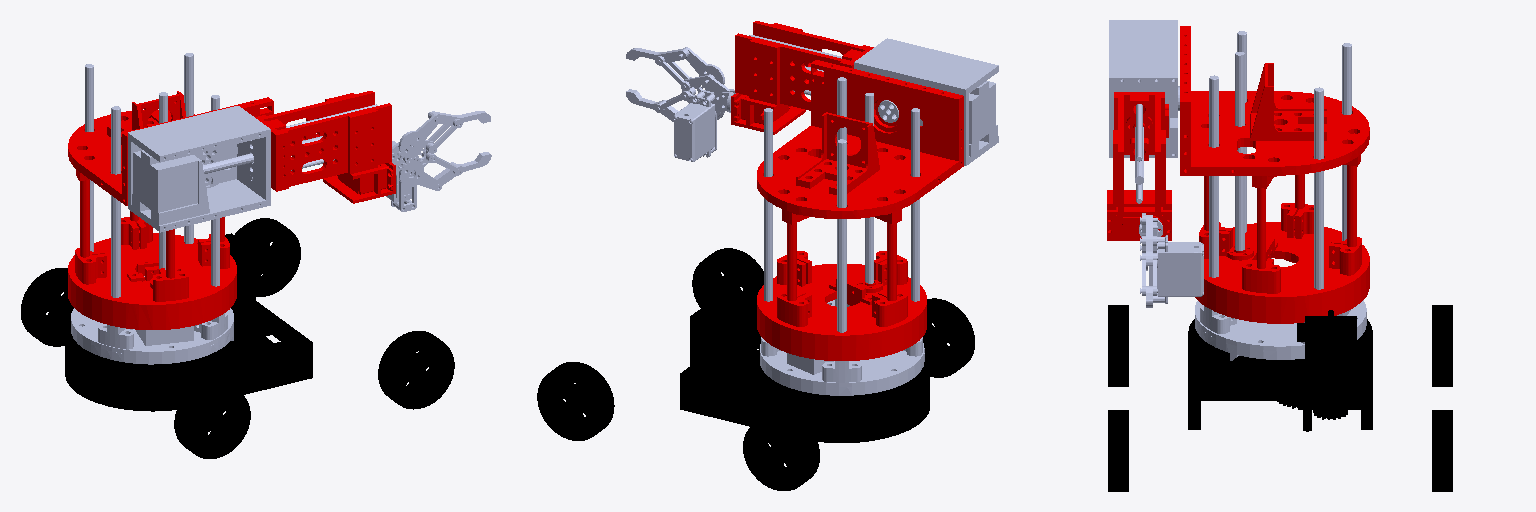
URDF robot description (asabe_robot_description):
<?xml version="1.0" encoding="utf-8"?>
<robot
  name="asabe_robot_description">
  <link
    name="base_link">
    <visual>
      <origin
        xyz="0 0 0"
        rpy="0 0 0" />
      <geometry>
        <mesh
          filename="package://asabe_robot_description/meshes/base_link.STL" />
      </geometry>
      <material
        name="">
        <color
          rgba="0.79216 0.81961 0.93333 1" />
      </material>
    </visual>
  </link>

  <!-- Robot Footprint -->
  <!-- <link name="base_footprint"/>

  <joint name="base_joint" type="fixed">
    <parent link="base_link"/>
    <child link="base_footprint"/>
    <origin xyz="0.0 0.0 -0.01875" rpy="0 0 0"/>
  </joint> -->


  <link
    name="base">
    <inertial>
      <origin
        xyz="0.01912 0.0011886 0.0092468"
        rpy="0 0 0" />
      <mass
        value="0.78986" />
      <inertia
        ixx="0.0020986"
        ixy="-1.3798E-07"
        ixz="-2.0391E-05"
        iyy="0.0033408"
        iyz="4.2971E-07"
        izz="0.0053539" />
    </inertial>
    <visual>
      <origin
        xyz="0 0 0"
        rpy="0 0 0" />
      <geometry>
        <mesh
          filename="package://asabe_robot_description/meshes/base_link.STL" />
      </geometry>
      <material
        name="">
        <color
          rgba="0.79216 0.81961 0.93333 1" />
      </material>
    </visual>
    <collision>
      <origin
        xyz="0 0 0"
        rpy="0 0 0" />
      <geometry>
        <mesh
          filename="package://asabe_robot_description/meshes/base_link.STL" />
      </geometry>
    </collision>
  </link>

   <joint
    name="Joint_base"
    type="fixed">
    <origin
      xyz="0 0 0"
      rpy="0 0 0" />
    <parent
      link="base_link" />
    <child
      link="base" />
    <axis
      xyz="0 0 0" />
  </joint>


  <link
    name="Link_wheel1"> <!--dynamixel id:2-->
    <inertial>
      <origin
        xyz="4.1633E-17 -4.1633E-17 -0.0074545"
        rpy="0 0 0" />
      <mass
        value="0.03913" />
      <inertia
        ixx="1.4554E-05"
        ixy="-1.1471E-22"
        ixz="-4.1333E-21"
        iyy="1.4554E-05"
        iyz="8.1676E-21"
        izz="2.7117E-05" />
    </inertial>
    <visual>
      <origin
        xyz="0 0 0"
        rpy="0 0 0" />
      <geometry>
        <mesh
          filename="package://asabe_robot_description/meshes/Link_wheel1.STL" />
      </geometry>
      <material
        name="">
        <color
          rgba="0 0 0 1" />
      </material>
    </visual>
    <collision>
      <origin
        xyz="0 0 0"
        rpy="0 0 0" />
      <geometry>
        <mesh
          filename="package://asabe_robot_description/meshes/Link_wheel1.STL" />
      </geometry>
    </collision>
  </link>

  <joint
    name="Joint_wheel1"
    type="continuous"> <!--dynamixel id:2-->
    <origin
      xyz="0.10075 -0.123 0.01425"
      rpy="-1.5708 0 0" />
    <parent
      link="base_link" />
    <child
      link="Link_wheel1" />
    <axis
      xyz="0 0 1" />
  </joint>


  <link
    name="Link_wheel2"> <!--dynamixel id:3-->
    <inertial>
      <origin
        xyz="1.3878E-17 4.8572E-17 -0.0074545"
        rpy="0 0 0" />
      <mass
        value="0.03913" />
      <inertia
        ixx="1.4554E-05"
        ixy="3.9294E-22"
        ixz="-5.24E-22"
        iyy="1.4554E-05"
        iyz="-9.2404E-21"
        izz="2.7117E-05" />
    </inertial>
    <visual>
      <origin
        xyz="0 0 0"
        rpy="0 0 0" />
      <geometry>
        <mesh
          filename="package://asabe_robot_description/meshes/Link_wheel2.STL" />
      </geometry>
      <material
        name="">
        <color
          rgba="0 0 0 1" />
      </material>
    </visual>
    <collision>
      <origin
        xyz="0 0 0"
        rpy="0 0 0" />
      <geometry>
        <mesh
          filename="package://asabe_robot_description/meshes/Link_wheel2.STL" />
      </geometry>
    </collision>
  </link>

  <joint
    name="Joint_wheel2"
    type="continuous"> <!--dynamixel id:3-->
    <origin
      xyz="0.10075 0.123 0.01425"
      rpy="1.5708 0 0" />
    <parent
      link="base_link" />
    <child
      link="Link_wheel2" />
    <axis
      xyz="0 0 -1" />
  </joint>


  <link
    name="Link_wheel3"> <!--dynamixel id:4-->
    <inertial>
      <origin
        xyz="-1.3878E-17 5.2042E-17 -0.0074545"
        rpy="0 0 0" />
      <mass
        value="0.03913" />
      <inertia
        ixx="1.4554E-05"
        ixy="-1.7229E-25"
        ixz="2.4714E-22"
        iyy="1.4554E-05"
        iyz="-9.2065E-21"
        izz="2.7117E-05" />
    </inertial>
    <visual>
      <origin
        xyz="0 0 0"
        rpy="0 0 0" />
      <geometry>
        <mesh
          filename="package://asabe_robot_description/meshes/Link_wheel3.STL" />
      </geometry>
      <material
        name="">
        <color
          rgba="0 0 0 1" />
      </material>
    </visual>
    <collision>
      <origin
        xyz="0 0 0"
        rpy="0 0 0" />
      <geometry>
        <mesh
          filename="package://asabe_robot_description/meshes/Link_wheel3.STL" />
      </geometry>
    </collision>
  </link>

  <joint
    name="Joint_wheel3"
    type="continuous"> <!--dynamixel id:4-->
    <origin
      xyz="-0.10075 0.123 0.01425"
      rpy="1.5708 0 0" />
    <parent
      link="base_link" />
    <child
      link="Link_wheel3" />
    <axis
      xyz="0 0 -1" />
  </joint>


  <link
    name="Link_wheel4"> <!--dynamixel id:1-->
    <inertial>
      <origin
        xyz="0 -5.2042E-17 -0.0074545"
        rpy="0 0 0" />
      <mass
        value="0.03913" />
      <inertia
        ixx="1.4554E-05"
        ixy="1.024E-23"
        ixz="-2.8314E-21"
        iyy="1.4554E-05"
        iyz="9.2044E-21"
        izz="2.7117E-05" />
    </inertial>
    <visual>
      <origin
        xyz="0 0 0"
        rpy="0 0 0" />
      <geometry>
        <mesh
          filename="package://asabe_robot_description/meshes/Link_wheel4.STL" />
      </geometry>
      <material
        name="">
        <color
          rgba="0 0 0 1" />
      </material>
    </visual>
    <collision>
      <origin
        xyz="0 0 0"
        rpy="0 0 0" />
      <geometry>
        <mesh
          filename="package://asabe_robot_description/meshes/Link_wheel4.STL" />
      </geometry>
    </collision>
  </link>
  
  <joint
    name="Joint_wheel4"
    type="continuous"> <!--dynamixel id:1-->
    <origin
      xyz="-0.10075 -0.123 0.01425"
      rpy="-1.5708 0 0" />
    <parent
      link="base_link" />
    <child
      link="Link_wheel4" />
    <axis
      xyz="0 0 1" />
  </joint>


  <link
    name="Link_lidar">
  </link>
  
  <joint
    name="Joint_lidar"
    type="fixed">
    <origin
      xyz="0.109 0 0.0436"
      rpy="0 0 3.1416" />
    <parent
      link="base_link" />
    <child
      link="Link_lidar" />
    <axis
      xyz="0 0 0" />
  </joint>


  <ros2_control name="base_control" type="system">
    <hardware>
      <plugin>dynamixel_hardware/DynamixelHardware</plugin>
      <param name="usb_port">/dev/ttyAMA2</param>
      <param name="baud_rate">57600</param>
    </hardware>

    <joint name="Joint_wheel1">
      <param name="id">2</param>
      <param name="transmission">-1</param>
      <!-- <command_interface name="position"/> -->
      <command_interface name="velocity"/>
      <!-- <state_interface name="position"/> -->
      <state_interface name="velocity"/>
      <!-- <state_interface name="effort"/> -->
    </joint>

    <joint name="Joint_wheel2">
      <param name="id">3</param>
      <param name="transmission">1</param>
      <!-- <command_interface name="position"/> -->
      <command_interface name="velocity"/>
      <!-- <state_interface name="position"/> -->
      <state_interface name="velocity"/>
      <!-- <state_interface name="effort"/> -->
    </joint>

    <joint name="Joint_wheel3">
      <param name="id">4</param>
      <param name="transmission">1</param>
      <!-- <command_interface name="position"/> -->
      <command_interface name="velocity"/>
      <!-- <state_interface name="position"/> -->
      <state_interface name="velocity"/>
      <!-- <state_interface name="effort"/> -->
    </joint>

    <joint name="Joint_wheel4">
      <param name="id">1</param>
      <param name="transmission">-1</param>
      <!-- <command_interface name="position"/> -->
      <command_interface name="velocity"/>
      <!-- <state_interface name="position"/> -->
      <state_interface name="velocity"/>
      <!-- <state_interface name="effort"/> -->
    </joint>

  </ros2_control>

  <link
    name="Link_arm1">
    <inertial>
      <origin
        xyz="0.033146 0.009228 0.027122"
        rpy="0 0 0" />
      <mass
        value="0.52977" />
      <inertia
        ixx="0.00086749"
        ixy="-2.5625E-05"
        ixz="-1.7029E-05"
        iyy="0.0010469"
        iyz="3.1451E-06"
        izz="0.0018174" />
    </inertial>
    <visual>
      <origin
        xyz="0 0 0"
        rpy="0 0 0" />
      <geometry>
        <mesh
          filename="package://asabe_robot_description/meshes/Link_arm1.STL" />
      </geometry>
      <material
        name="">
        <color
          rgba="0 0 0 1" />
      </material>
    </visual>
    <collision>
      <origin
        xyz="0 0 0"
        rpy="0 0 0" />
      <geometry>
        <mesh
          filename="package://asabe_robot_description/meshes/Link_arm1.STL" />
      </geometry>
    </collision>
  </link>

  <joint
    name="Joint_arm1"
    type="fixed">
    <origin
      xyz="-0.084 0 0"
      rpy="0 0 0" />
    <parent
      link="base" />
    <child
      link="Link_arm1" />
    <axis
      xyz="0 0 0" />
  </joint>


  <link
    name="Link_arm2">
    <inertial>
      <origin
        xyz="-0.0012502 -0.0044304 0.035885"
        rpy="0 0 0" />
      <mass
        value="0.38055" />
      <inertia
        ixx="0.00059052"
        ixy="3.1075E-06"
        ixz="4.3079E-07"
        iyy="0.00059801"
        iyz="5.6852E-07"
        izz="0.00046663" />
    </inertial>
    <visual>
      <origin
        xyz="0 0 0"
        rpy="0 0 0" />
      <geometry>
        <mesh
          filename="package://asabe_robot_description/meshes/Link_arm2.STL" />
      </geometry>
      <material
        name="">
        <color
          rgba="0.79216 0.81961 0.93333 1" />
      </material>
    </visual>
    <collision>
      <origin
        xyz="0 0 0"
        rpy="0 0 0" />
      <geometry>
        <mesh
          filename="package://asabe_robot_description/meshes/Link_arm2.STL" />
      </geometry>
    </collision>
  </link>

  <joint
    name="Joint_arm2"
    type="revolute">
    <origin
      xyz="0 0 0.035"
      rpy="0 0 0" />
    <parent
      link="Link_arm1" />
    <child
      link="Link_arm2" />
    <axis
      xyz="0 0 -1" />
    <limit
      lower="0"
      upper="5.0"
      velocity="0.5" 
      effort="0"/>
  </joint>


  <link
    name="Link_arm3">
    <inertial>
      <origin
        xyz="-0.00014558 -0.012857 0.080902"
        rpy="0 0 0" />
      <mass
        value="0.52829" />
      <inertia
        ixx="0.00092741"
        ixy="3.0845E-06"
        ixz="2.0717E-07"
        iyy="0.00083924"
        iyz="0.0001015"
        izz="0.0015259" />
    </inertial>
    <visual>
      <origin
        xyz="0 0 0"
        rpy="0 0 0" />
      <geometry>
        <mesh
          filename="package://asabe_robot_description/meshes/Link_arm3.STL" />
      </geometry>
      <material
        name="">
        <color
          rgba="1 0 0 1" />
      </material>
    </visual>
    <collision>
      <origin
        xyz="0 0 0"
        rpy="0 0 0" />
      <geometry>
        <mesh
          filename="package://asabe_robot_description/meshes/Link_arm3.STL" />
      </geometry>
    </collision>
  </link>

  <joint
    name="Joint_arm3"
    type="prismatic">
    <origin
      xyz="0 0 0.0405"
      rpy="0 0 0" />
    <parent
      link="Link_arm2" />
    <child
      link="Link_arm3" />
    <axis
      xyz="0 0 1" />
    <limit
      lower="0"
      upper="0.18"
      velocity="0.03" 
      effort="0"/>
  </joint>


  <link
    name="Link_arm4">
    <inertial>
      <origin
        xyz="-0.021335 0.0014098 -0.024892"
        rpy="0 0 0" />
      <mass
        value="0.23793" />
      <inertia
        ixx="0.00016138"
        ixy="-6.1184E-07"
        ixz="2.2904E-06"
        iyy="0.00030915"
        iyz="-5.1236E-07"
        izz="0.00036857" />
    </inertial>
    <visual>
      <origin
        xyz="0 0 0"
        rpy="0 0 0" />
      <geometry>
        <mesh
          filename="package://asabe_robot_description/meshes/Link_arm4.STL" />
      </geometry>
      <material
        name="">
        <color
          rgba="0.79216 0.81961 0.93333 1" />
      </material>
    </visual>
    <collision>
      <origin
        xyz="0 0 0"
        rpy="0 0 0" />
      <geometry>
        <mesh
          filename="package://asabe_robot_description/meshes/Link_arm4.STL" />
      </geometry>
    </collision>
  </link>

  <joint
    name="Joint_arm4"
    type="revolute">
    <origin
      xyz="0 -0.0835 0.16784"
      rpy="-1.5708 0 0" />
    <parent
      link="Link_arm3" />
    <child
      link="Link_arm4" />
    <axis
      xyz="0 0 1" />
    <limit
      lower="0"
      upper="1.5708"
      effort="0"
      velocity="0.5" />
  </joint>


  <link
    name="Link_arm5">
    <inertial>
      <origin
        xyz="0.00033505 -0.013271 0.067796"
        rpy="0 0 0" />
      <mass
        value="0.12412" />
      <inertia
        ixx="9.7134E-05"
        ixy="3.5937E-15"
        ixz="-2.6794E-08"
        iyy="7.7548E-05"
        iyz="2.0589E-06"
        izz="4.6907E-05" />
    </inertial>
    <visual>
      <origin
        xyz="0 0 0"
        rpy="3.14159 0 0" />
      <geometry>
        <mesh
          filename="package://asabe_robot_description/meshes/Link_arm5.STL" />
      </geometry>
      <material
        name="">
        <color
          rgba="1 0 0 1" />
      </material>
    </visual>
    <collision>
      <origin
        xyz="0 0 0"
        rpy="3.14159 0 0" />
      <geometry>
        <mesh
          filename="package://asabe_robot_description/meshes/Link_arm5.STL" />
      </geometry>
    </collision>
  </link>

  <joint
    name="Joint_arm5"
    type="prismatic">
    <origin
      xyz="0.0445 0 -0.031"
      rpy="0 -1.5708 0" />
    <parent
      link="Link_arm4" />
    <child
      link="Link_arm5" />
    <axis
      xyz="0 0 -1" />
    <limit
      lower="0"
      upper="0.1"
      effort="0"
      velocity="0.03" />
  </joint>


  <link
    name="Link_arm6">
    <inertial>
      <origin
        xyz="0.008683 -0.014046 0.034385"
        rpy="0 0 0" />
      <mass
        value="0.043811" />
      <inertia
        ixx="9.1016E-06"
        ixy="7.2728E-08"
        ixz="4.0116E-09"
        iyy="4.5879E-06"
        iyz="-5.5331E-08"
        izz="6.5899E-06" />
    </inertial>
    <visual>
      <origin
        xyz="0 0 0"
        rpy="0 0 0" />
      <geometry>
        <mesh
          filename="package://asabe_robot_description/meshes/Link_arm6.STL" />
      </geometry>
      <material
        name="">
        <color
          rgba="0.79216 0.81961 0.93333 1" />
      </material>
    </visual>
    <collision>
      <origin
        xyz="0 0 0"
        rpy="0 0 0" />
      <geometry>
        <mesh
          filename="package://asabe_robot_description/meshes/Link_arm6.STL" />
      </geometry>
    </collision>
  </link>

  <joint
    name="Joint_arm6"
    type="fixed">
    <origin
      xyz="0.0094 0.0397 -0.12045"
      rpy="0 3.14159 3.14159" />
    <parent
      link="Link_arm5" />
    <child
      link="Link_arm6" />
    <axis
      xyz="0 0 1" />
    <limit
      lower="-3.14"
      upper="3.14"
      effort="0"
      velocity="0" />
  </joint>

    <link
    name="grasp_point">
  </link>

  <joint
    name="Joint_grasp_point"
    type="fixed">
    <origin
      xyz="0 0 0.1"
      rpy="3.14159 -1.5707 0" />
    <parent
      link="Link_arm6" />
    <child
      link="grasp_point" />
    <axis
      xyz="0 0 0" />
  </joint>

  <ros2_control name="arm_control" type="system">
    <hardware>
      <plugin>stepper_hardware/StepperHardware</plugin>
      <param name="usb_port">/dev/ttyAMA1</param>
      <param name="baud_rate">57600</param>
    </hardware>

    <joint name="Joint_arm2">
      <command_interface name="position"/>
      <command_interface name="velocity"/>
      <state_interface name="position"/>
      <state_interface name="velocity"/>\
    </joint>

    <joint name="Joint_arm3">
      <command_interface name="position"/>
      <command_interface name="velocity"/>
      <state_interface name="position"/>
      <state_interface name="velocity"/>\
    </joint>

    <joint name="Joint_arm4">
      <command_interface name="position"/>
      <command_interface name="velocity"/>
      <state_interface name="position"/>
      <state_interface name="velocity"/>
    </joint>

    <joint name="Joint_arm5">
      <command_interface name="position"/>
      <command_interface name="velocity"/>
      <state_interface name="position"/>
      <state_interface name="velocity"/>
    </joint>

  </ros2_control>

</robot>

--- Facts derived from the render (not from the file) ---
3 views of the same robot in one strip: view 1: azimuth 30°, elevation 25°; view 2: azimuth 150°, elevation 25°; view 3: azimuth 270°, elevation 25° (orthographic).
Robot: asabe_robot_description — 14 links, 13 joints (2 revolute, 4 continuous, 2 prismatic, 5 fixed); root link base_link; default pose: every joint at zero.
Links seen in each view (by area): view 1: Link_arm3, Link_arm4, Link_arm1, Link_arm5, Link_arm2, Link_wheel4, Link_wheel1, Link_arm6, Link_wheel2, Link_wheel3; view 2: Link_arm3, Link_arm1, Link_arm2, Link_arm5, Link_arm4, Link_arm6, Link_wheel3, Link_wheel2, Link_wheel1, Link_wheel4; view 3: Link_arm3, Link_arm1, Link_arm2, Link_arm4, Link_arm5, Link_arm6, Link_wheel1, Link_wheel2, Link_wheel3, Link_wheel4.
Boxes of the visible links, bbox=[...] form: Link_arm3: bbox=[68, 91, 273, 329]; Link_arm4: bbox=[128, 104, 377, 232]; Link_arm1: bbox=[65, 233, 312, 411]; Link_arm5: bbox=[255, 91, 395, 203]; Link_arm2: bbox=[71, 53, 233, 364]; Link_wheel4: bbox=[174, 380, 250, 458]; Link_wheel1: bbox=[378, 331, 454, 409]; Link_arm6: bbox=[386, 111, 491, 211]; Link_wheel2: bbox=[234, 218, 300, 296]; Link_wheel3: bbox=[21, 268, 73, 346]; Link_arm3: bbox=[757, 60, 963, 360]; Link_arm1: bbox=[680, 297, 929, 442]; Link_arm2: bbox=[760, 77, 924, 395]; Link_arm5: bbox=[731, 21, 873, 134]; Link_arm4: bbox=[749, 35, 998, 165]; Link_arm6: bbox=[626, 47, 735, 161]; Link_wheel3: bbox=[743, 412, 819, 490]; Link_wheel2: bbox=[537, 362, 614, 440]; Link_wheel1: bbox=[692, 248, 763, 308]; Link_wheel4: bbox=[923, 298, 974, 377]; Link_arm3: bbox=[1180, 26, 1369, 323]; Link_arm1: bbox=[1188, 310, 1372, 431]; Link_arm2: bbox=[1195, 31, 1366, 360]; Link_arm4: bbox=[1109, 20, 1179, 203]; Link_arm5: bbox=[1107, 92, 1171, 240]; Link_arm6: bbox=[1139, 213, 1203, 307]; Link_wheel1: bbox=[1108, 410, 1128, 491]; Link_wheel2: bbox=[1432, 410, 1452, 491]; Link_wheel3: bbox=[1432, 305, 1452, 386]; Link_wheel4: bbox=[1108, 305, 1128, 386].
Bounding box of the posed robot: 0.3466 × 0.281 × 0.305 m (x, y, z).
Meshes: 11 distinct files referenced, 10 mesh visuals loaded (10 binary STL); not drawn: 2 (file found but could not be loaded).